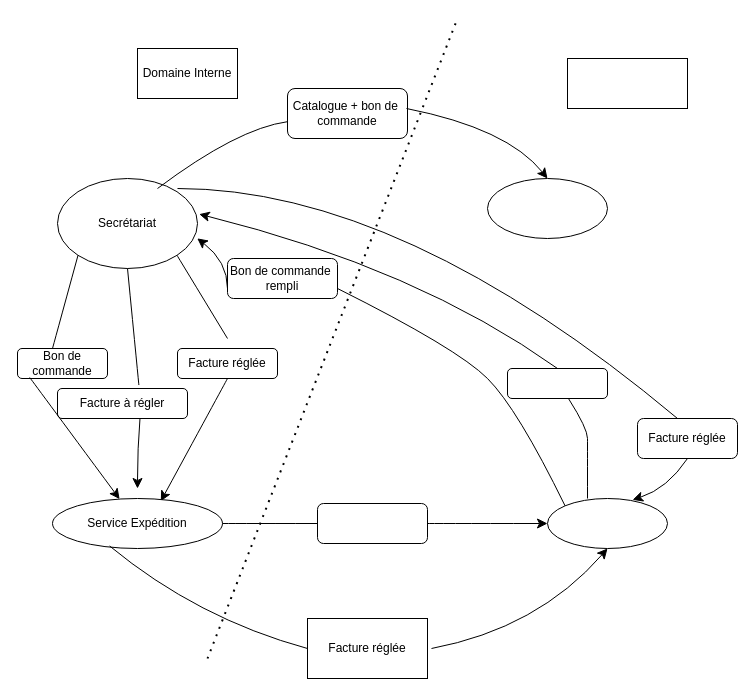
The diagram is 755 pixels wide and 696 high, and some of its shapes have lost their labels. The box of each missing label's shape, as (x1, y1, x2, y2) in pixels:
Chéque: (506, 368, 608, 398)
Colis: (316, 502, 428, 544)
Domaine Externe: (566, 58, 688, 108)
Etablissement: (486, 178, 608, 238)
Professeur: (546, 498, 668, 548)
